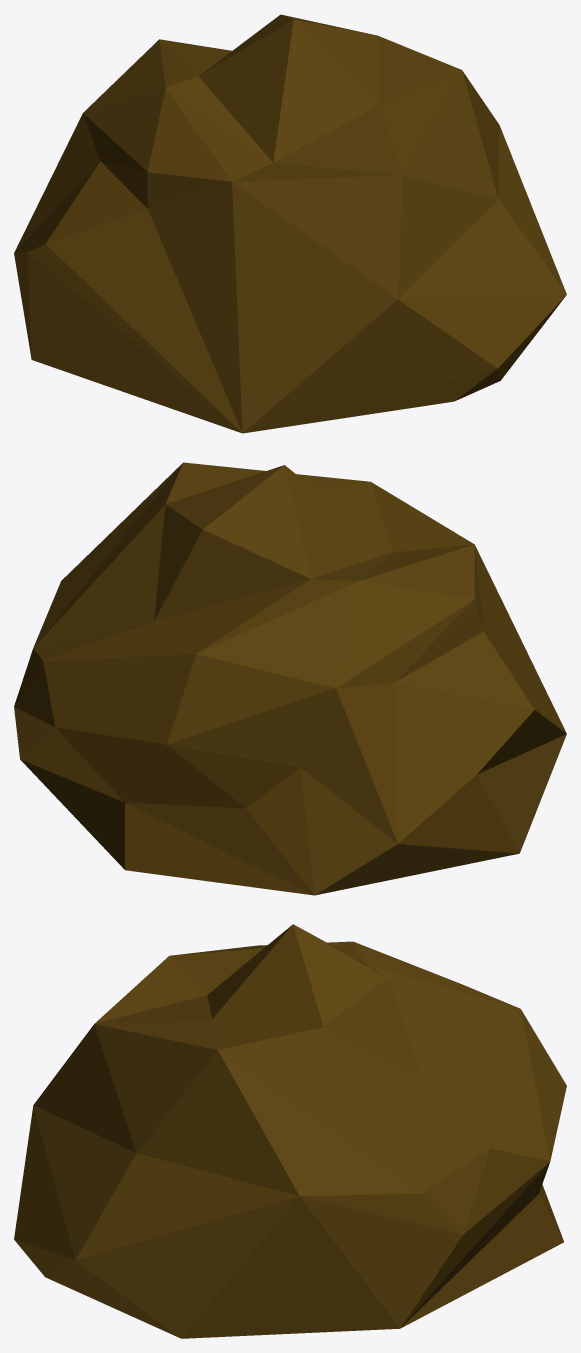
File: pr_Poo.FBX
The picture shows the model from 3 angles, top to bottom: view 1: azimuth 30°, elevation 25°; view 2: azimuth 150°, elevation 25°; view 3: azimuth 270°, elevation 25°; orthographic projection. The views are drawn at different scales.
Parts seen in each view (by area): view 1: mesh_Poo; view 2: mesh_Poo; view 3: mesh_Poo.
Boxes of the visible parts, left/top/right/bottom form: mesh_Poo: left=14, top=14, right=566, bottom=433; mesh_Poo: left=14, top=462, right=566, bottom=895; mesh_Poo: left=14, top=924, right=566, bottom=1338.
Bounding box in the file's own units: 1.79 × 1.79 × 1.1.
